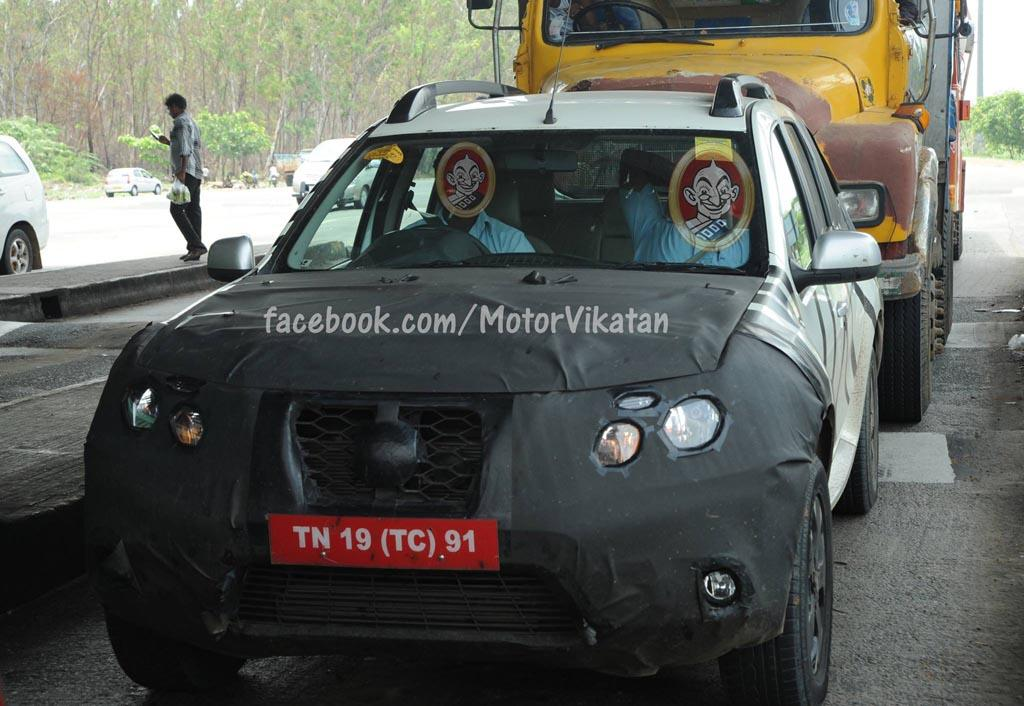License-Plate: (264, 505, 505, 575)
